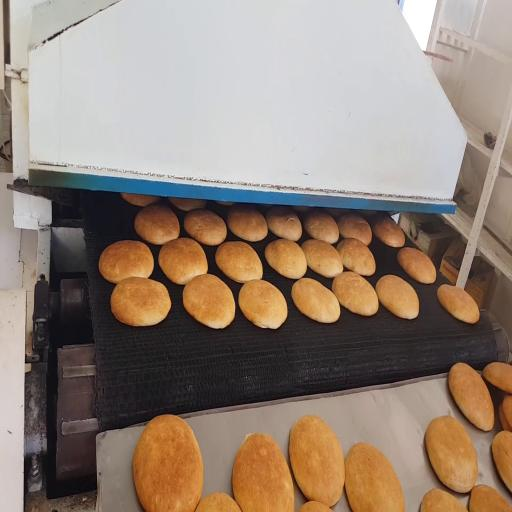bread: (133, 415, 203, 511), (289, 416, 344, 506), (232, 434, 294, 511), (425, 416, 478, 493), (346, 443, 405, 511), (448, 363, 494, 431), (111, 277, 171, 326), (183, 275, 235, 328), (239, 280, 287, 329), (99, 241, 153, 283), (159, 238, 207, 284), (292, 278, 340, 323), (332, 272, 378, 316), (216, 241, 262, 283), (376, 275, 419, 319), (135, 205, 179, 245), (265, 239, 307, 279), (437, 284, 479, 323), (302, 239, 343, 278), (184, 209, 226, 246), (227, 205, 267, 241), (337, 238, 375, 275), (398, 247, 436, 283), (491, 431, 512, 492), (266, 206, 302, 241), (304, 210, 339, 244), (470, 485, 511, 511), (338, 214, 371, 245), (420, 489, 466, 511), (372, 217, 405, 247), (483, 362, 511, 393), (196, 493, 241, 511), (121, 193, 160, 207), (169, 198, 206, 211), (498, 402, 512, 432), (501, 395, 511, 430), (299, 502, 331, 511), (324, 208, 348, 219), (293, 206, 310, 212), (217, 202, 234, 206)
